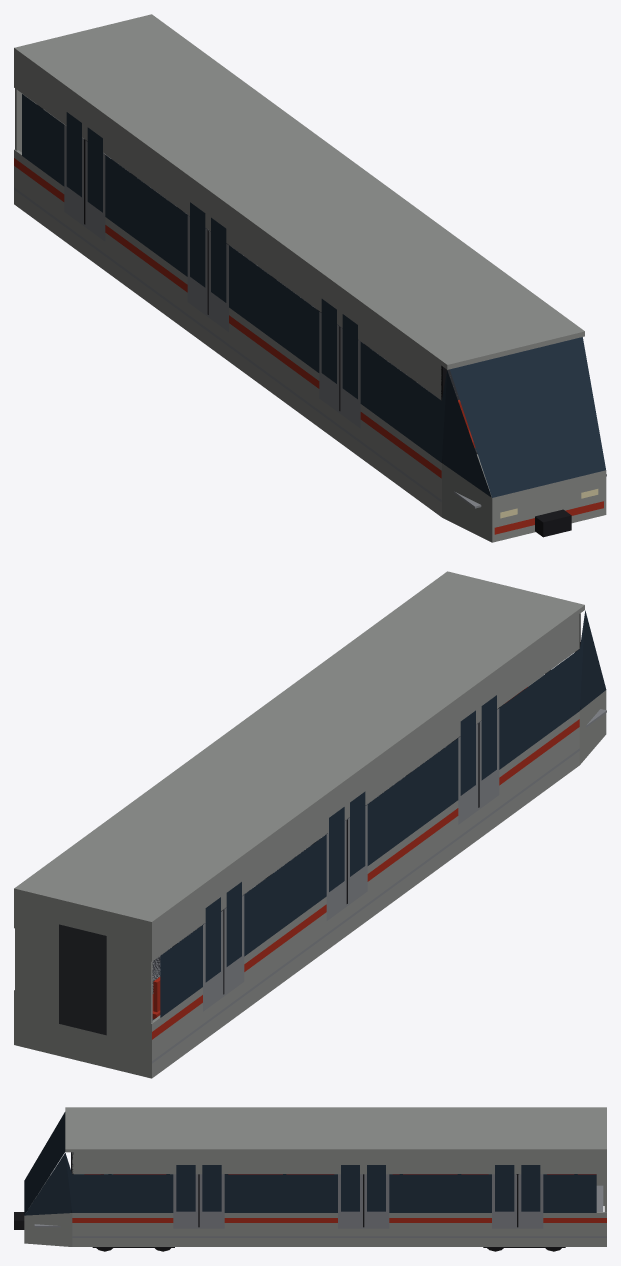
The model's file is veh_dubai-metro.glb.
The picture shows the model from 3 angles, top to bottom: view 1: azimuth 30°, elevation 25°; view 2: azimuth 150°, elevation 25°; view 3: azimuth 270°, elevation 25°; orthographic projection. The views are drawn at different scales.
Parts seen in each view (by area): view 1: body; view 2: body; view 3: body.
Boxes of the visible parts, left/top/right/bottom form: body: left=14, top=14, right=606, bottom=542; body: left=14, top=571, right=606, bottom=1078; body: left=14, top=1107, right=606, bottom=1251.
Bounding box in the file's own units: 2.93 × 3.6 × 17.3.
